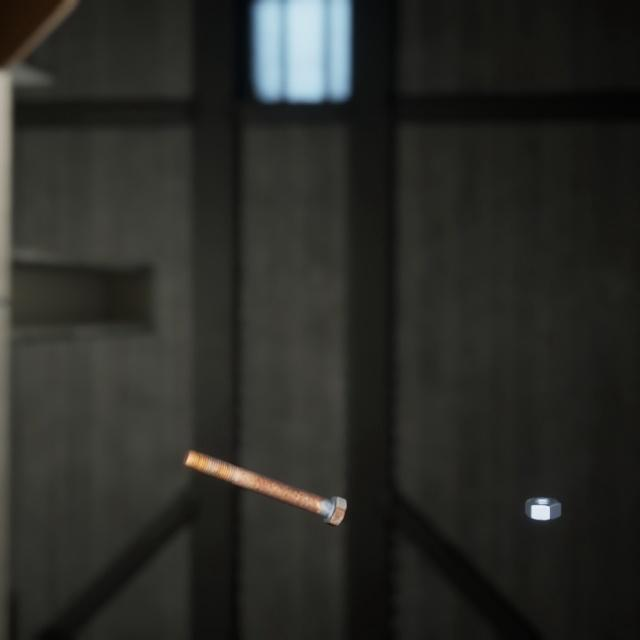bolt: (178, 423, 351, 509)
nut: (520, 471, 565, 503)
